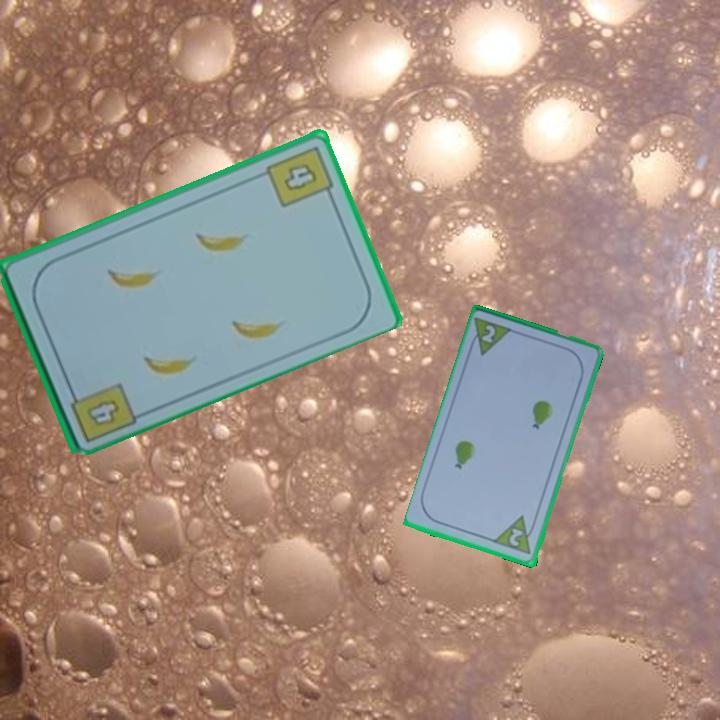2p: (465, 314, 516, 359), (505, 525, 526, 550)
4b: (262, 142, 337, 210), (65, 379, 139, 445)
